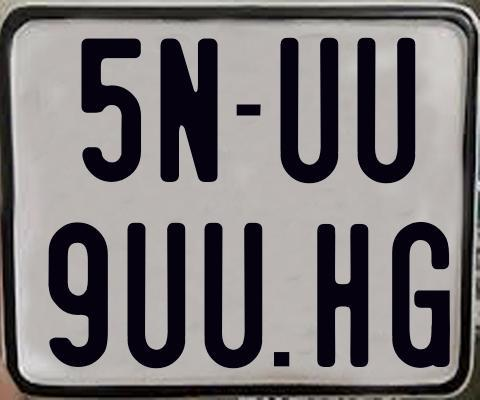5: (80, 35, 141, 183)
9: (48, 222, 113, 373)
G: (389, 221, 447, 367)
H: (315, 224, 368, 369)
N: (160, 35, 219, 179)
U: (357, 38, 418, 188), (277, 35, 337, 186), (126, 222, 188, 367), (201, 220, 261, 369)
